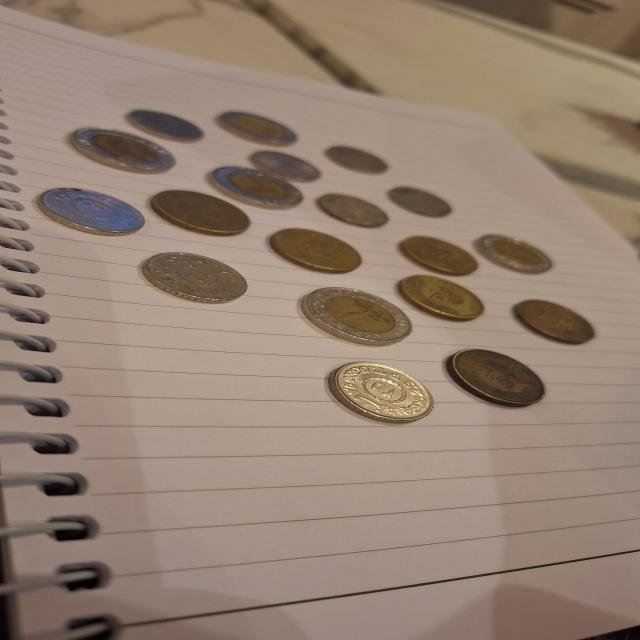Half Pound: (445, 345, 552, 407), (153, 189, 254, 234), (272, 226, 366, 274), (405, 272, 491, 317), (517, 298, 601, 342), (406, 234, 481, 272)
One Pound: (297, 287, 417, 343), (69, 126, 182, 172), (214, 166, 307, 208), (480, 232, 555, 272), (217, 110, 302, 144)
quarter pound: (334, 358, 434, 427), (144, 250, 250, 306), (43, 185, 148, 237), (127, 108, 208, 140), (321, 193, 385, 227), (391, 184, 456, 217), (326, 144, 393, 172), (255, 152, 321, 178)
